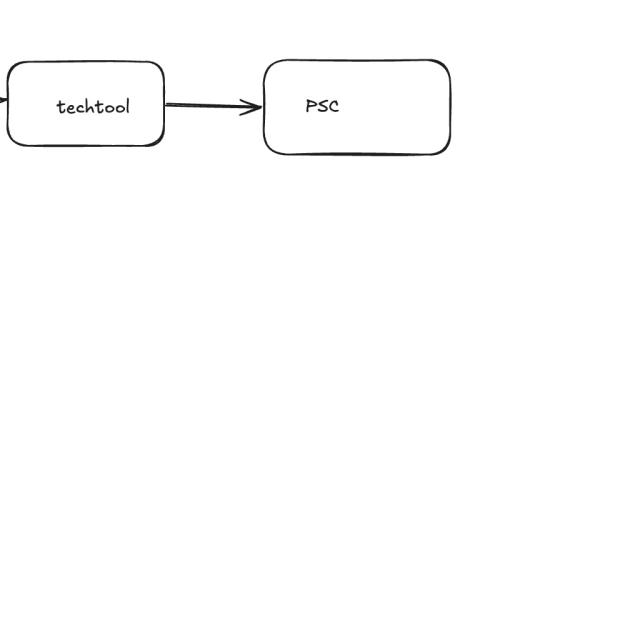arrow: (166, 99, 261, 115)
rectangle: (264, 60, 451, 155), (7, 61, 164, 146)
